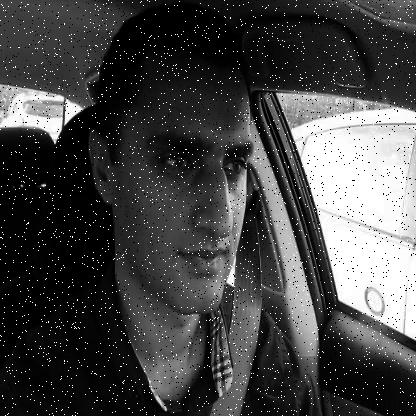seatbelt: (68, 0, 262, 416)
